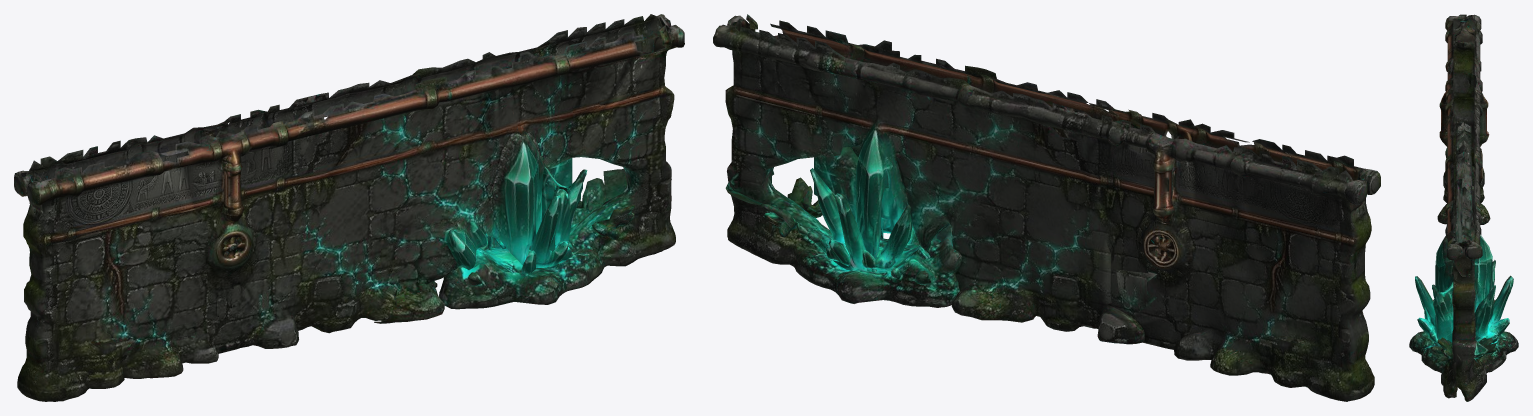
Rendered from wall1.glb.
3 views of the same model, side by side, from view 1: azimuth 30°, elevation 25°; view 2: azimuth 150°, elevation 25°; view 3: azimuth 270°, elevation 25° (orthographic). The views are drawn at different scales.
Size of the model in its own units: 1.91 by 0.6497 by 0.3795.
1 material, 1 textured.
